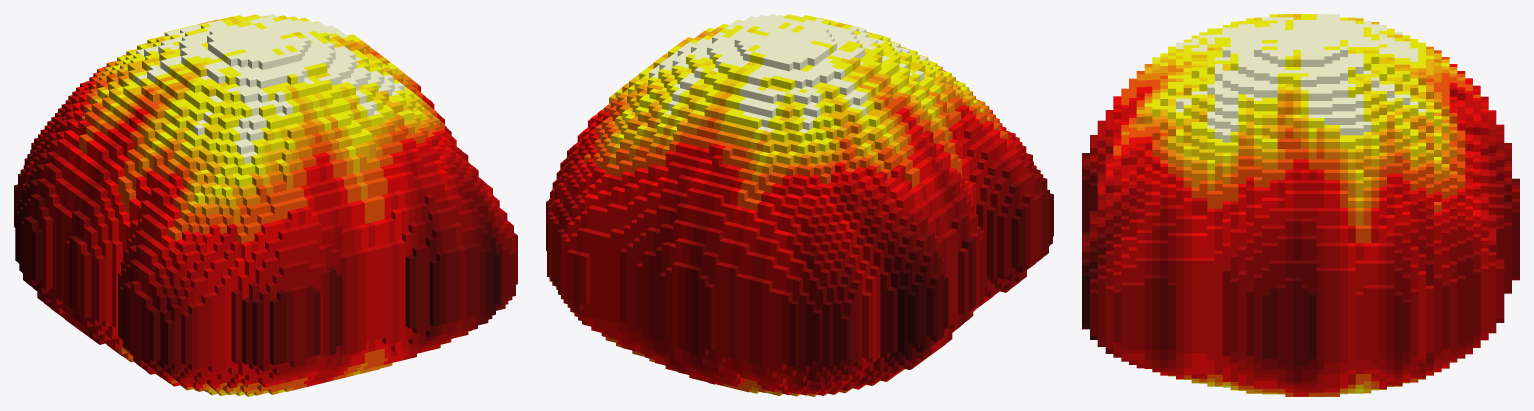
The model's file is explosion_00.obj.
The picture shows the model from 3 angles, left to right: view 1: azimuth 30°, elevation 25°; view 2: azimuth 150°, elevation 25°; view 3: azimuth 270°, elevation 25°; orthographic projection.
Parts seen in each view (by area): view 1: m_d60000, m_ffff00, m_a50000, m_8d0000, m_be0000, m_ffffd6, m_ff5000, m_ff0000, m_750000, m_5d0000, m_ff8900, m_ffc200 (+4 smaller); view 2: m_a50000, m_8d0000, m_be0000, m_d60000, m_ffff00, m_750000, m_ffffd6, m_ff0000, m_ff5000, m_5d0000, m_ffc200, m_ff8900 (+4 smaller); view 3: m_d60000, m_a50000, m_be0000, m_ffffd6, m_8d0000, m_ffff00, m_ff0000, m_ff5000, m_750000, m_ff8900, m_ffc200, m_5d0000 (+4 smaller).
Part boxes in pixels (x1,y1,x2,y2): m_d60000: [46, 76, 500, 388]; m_ffff00: [101, 15, 424, 396]; m_a50000: [23, 100, 514, 378]; m_8d0000: [25, 129, 517, 373]; m_be0000: [26, 91, 511, 382]; m_ffffd6: [132, 14, 404, 396]; m_ff5000: [79, 51, 444, 392]; m_ff0000: [53, 66, 458, 389]; m_750000: [18, 120, 515, 374]; m_5d0000: [14, 165, 502, 369]; m_ff8900: [88, 21, 439, 395]; m_ffc200: [94, 18, 429, 395]; m_a50000: [549, 153, 1035, 390]; m_8d0000: [547, 165, 1042, 386]; m_be0000: [548, 143, 1028, 391]; m_d60000: [551, 108, 1022, 394]; m_ffff00: [615, 14, 977, 395]; m_750000: [546, 174, 1048, 381]; m_ffffd6: [649, 14, 930, 132]; m_ff0000: [577, 105, 1014, 395]; m_ff5000: [584, 70, 1007, 394]; m_5d0000: [692, 189, 1053, 367]; m_ffc200: [609, 23, 984, 396]; m_ff8900: [604, 32, 990, 396]; m_d60000: [1097, 71, 1496, 392]; m_a50000: [1090, 128, 1519, 384]; m_be0000: [1097, 96, 1511, 388]; m_ffffd6: [1176, 14, 1425, 394]; m_8d0000: [1082, 143, 1519, 384]; m_ffff00: [1144, 14, 1449, 393]; m_ff0000: [1105, 64, 1488, 396]; m_ff5000: [1113, 50, 1480, 396]; m_750000: [1082, 156, 1519, 380]; m_ff8900: [1121, 46, 1465, 396]; m_ffc200: [1136, 14, 1457, 396]; m_5d0000: [1082, 153, 1519, 366].
Size of the model in its own units: 57 by 45 by 56.
